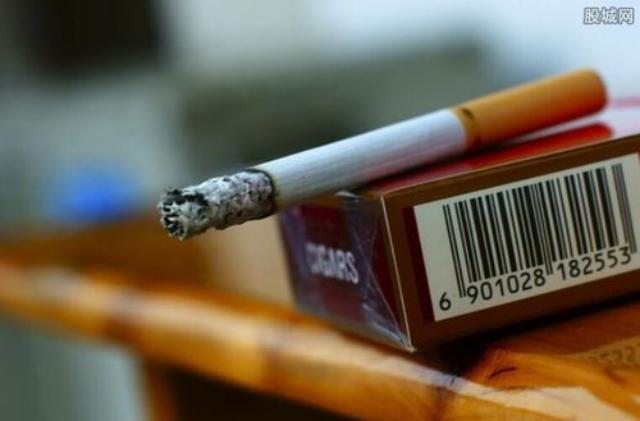Cigarette: (158, 68, 608, 242)
